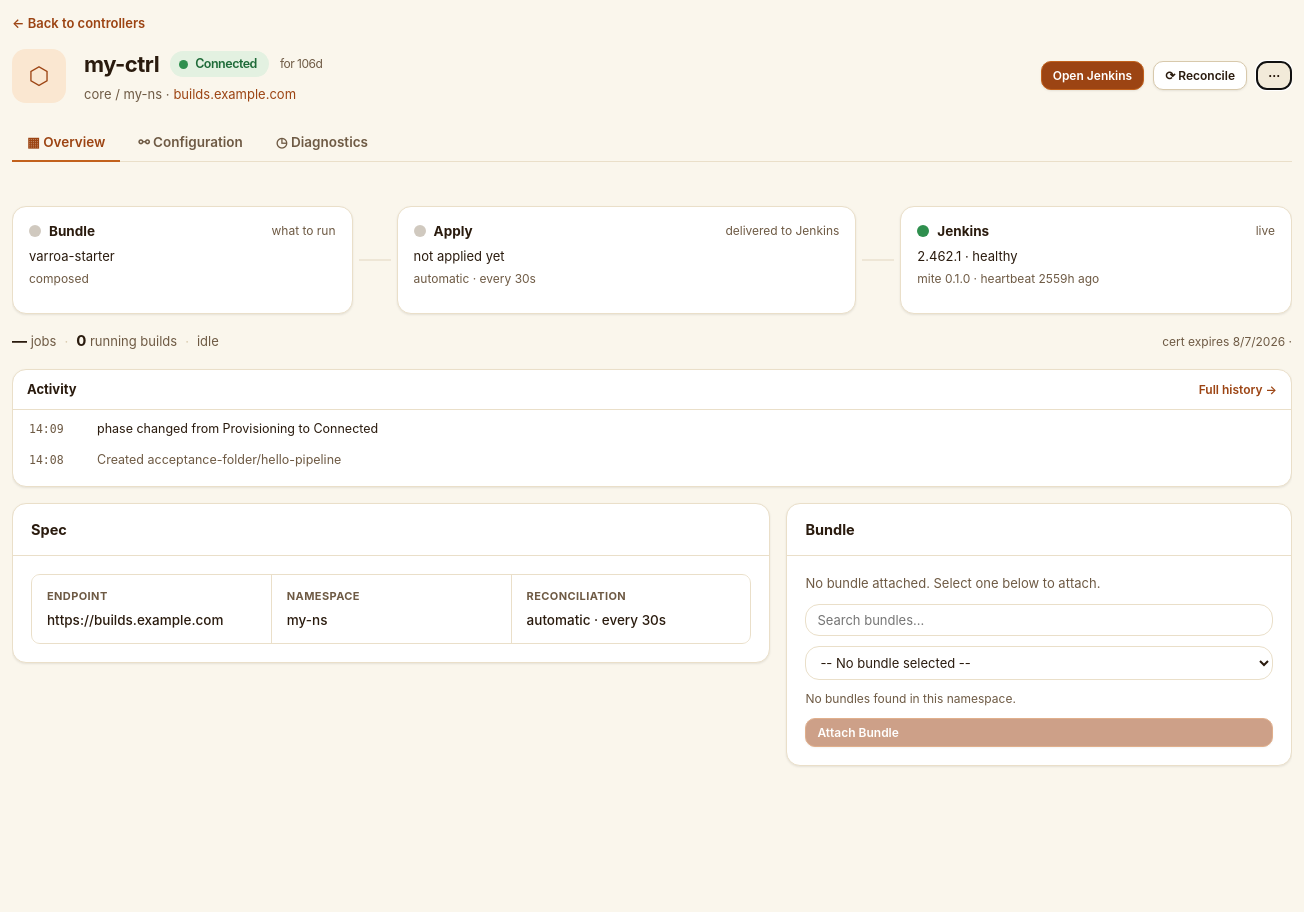
it: ControllerDetail — Overview activity feed (8.2) › Full history switches to the Diagnostics tab
Click the button "Full history →". click: [1238, 389]
box: [1199,382,1277,397]
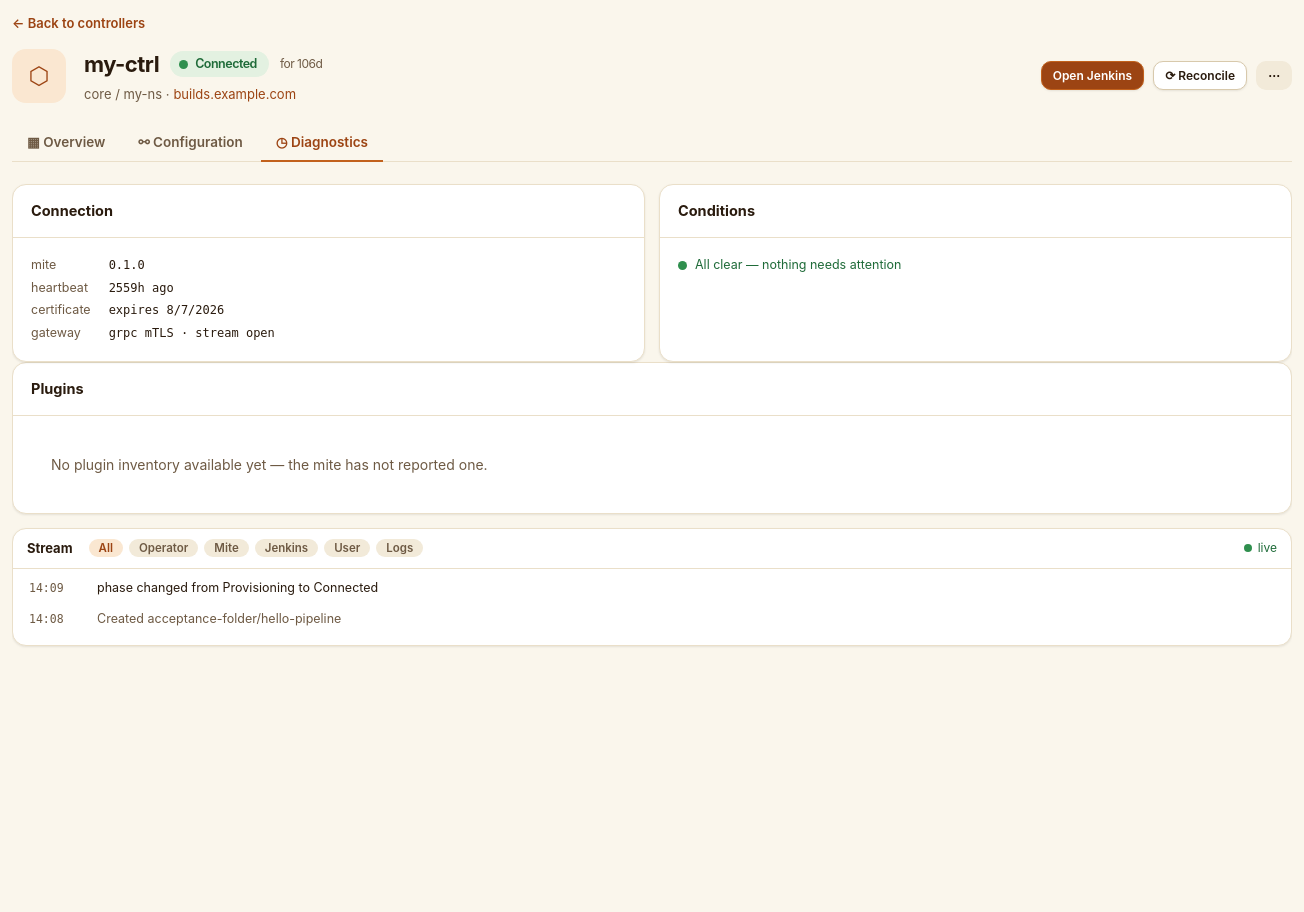
Expected: the element with test id "diagnostics-tab" is shown, [12,184,1292,646]
